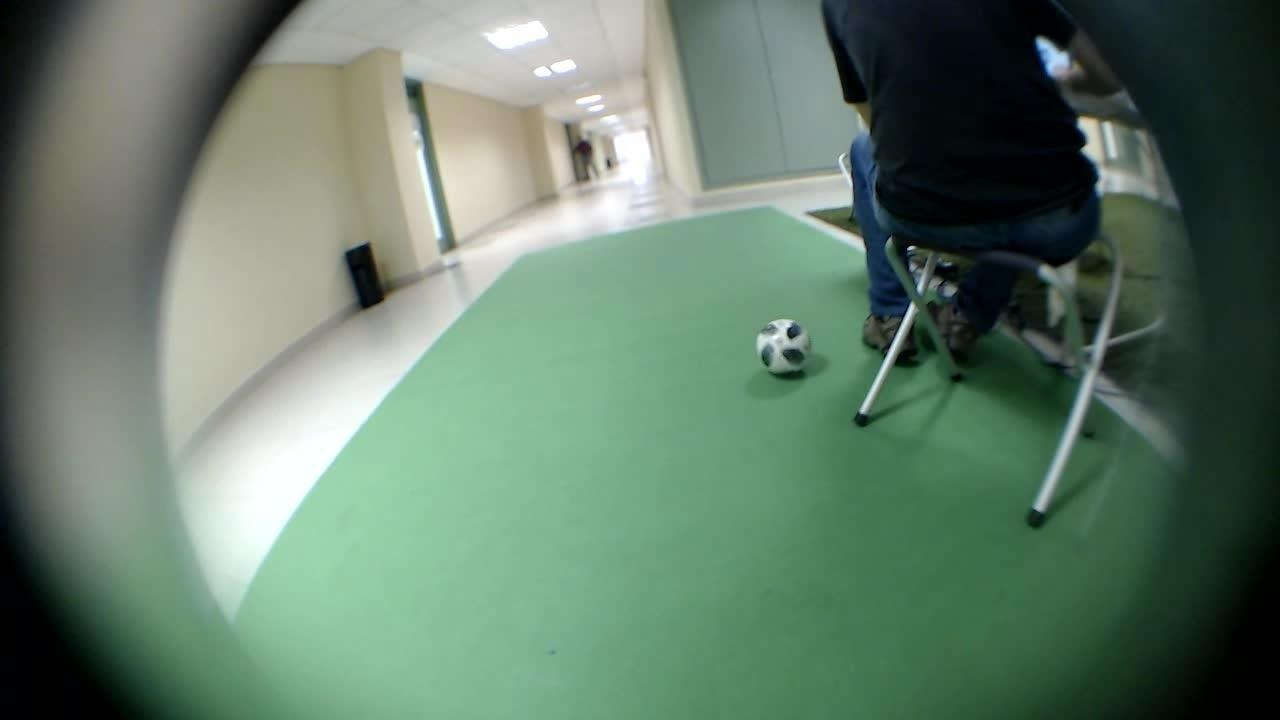ball: (754, 306, 816, 383)
